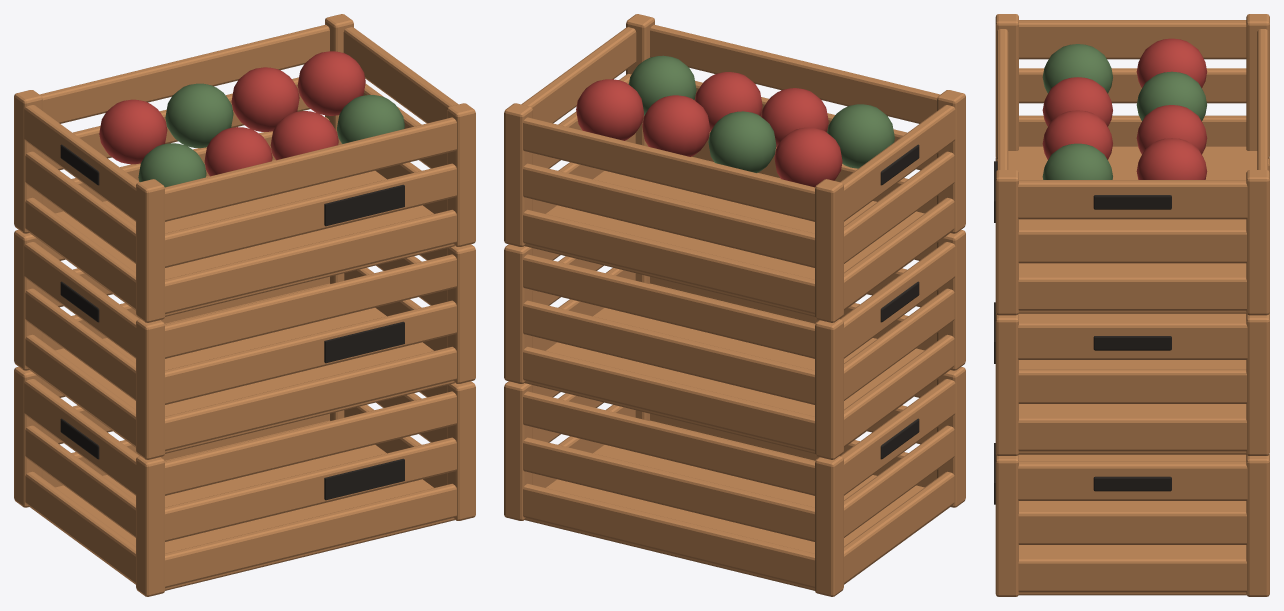
File: hh_cat_crate_stack.glb
The picture shows the model from 3 angles, left to right: view 1: azimuth 30°, elevation 25°; view 2: azimuth 150°, elevation 25°; view 3: azimuth 270°, elevation 25°; orthographic projection. The views are drawn at different scales.
Visible parts, largest first — view 1: crate_slat.008, crate_slat.018, crate_slat.028, crate_slat, crate_slat.010, crate_slat.020, crate_slat.029, crate_slat.004, crate_slat.014, crate_slat.024, crate_base, crate_base.001 (+43 smaller); view 2: crate_slat.009, crate_slat.019, crate_slat.029, crate_slat.001, crate_slat.011, crate_slat.021, crate_slat.005, crate_slat.015, crate_slat.025, crate_slat.028, crate_base, crate_base.001 (+38 smaller); view 3: crate_base.002, crate_slat.027, crate_slat.003, crate_slat.013, crate_slat.023, crate_handle_rail.005, crate_handle_rail.001, crate_slat.007, crate_slat.017, crate_handle_rail.003, crate_base.001, crate_base (+24 smaller).
Boxes of the visible parts, x1,y1,x2,y2 form: crate_slat.008: [164, 391, 456, 495]; crate_slat.018: [164, 254, 456, 358]; crate_slat.028: [164, 117, 456, 221]; crate_slat: [165, 483, 456, 588]; crate_slat.010: [165, 346, 456, 451]; crate_slat.020: [165, 209, 456, 314]; crate_slat.029: [39, 24, 329, 123]; crate_slat.004: [165, 437, 456, 541]; crate_slat.014: [165, 300, 456, 404]; crate_slat.024: [165, 163, 456, 267]; crate_base: [30, 420, 454, 590]; crate_base.001: [30, 283, 454, 453]; crate_slat.009: [523, 391, 815, 495]; crate_slat.019: [523, 254, 815, 358]; crate_slat.029: [523, 117, 815, 221]; crate_slat.001: [523, 483, 814, 588]; crate_slat.011: [523, 346, 814, 451]; crate_slat.021: [523, 209, 814, 314]; crate_slat.005: [523, 437, 814, 541]; crate_slat.015: [523, 300, 814, 404]; crate_slat.025: [523, 163, 814, 267]; crate_slat.028: [650, 24, 940, 123]; crate_base: [525, 420, 949, 590]; crate_base.001: [525, 283, 949, 453]; crate_base.002: [1008, 146, 1257, 313]; crate_slat.027: [1018, 228, 1246, 263]; crate_slat.003: [1018, 557, 1246, 592]; crate_slat.013: [1018, 416, 1246, 451]; crate_slat.023: [1018, 275, 1246, 310]; crate_handle_rail.005: [1018, 180, 1247, 219]; crate_handle_rail.001: [1018, 461, 1247, 500]; crate_slat.007: [1018, 510, 1246, 544]; crate_slat.017: [1018, 369, 1246, 403]; crate_handle_rail.003: [1018, 321, 1247, 359]; crate_base.001: [1018, 313, 1246, 454]; crate_base: [1019, 454, 1246, 595].
Size of the model in its own units: 0.5 by 0.6 by 0.35.
